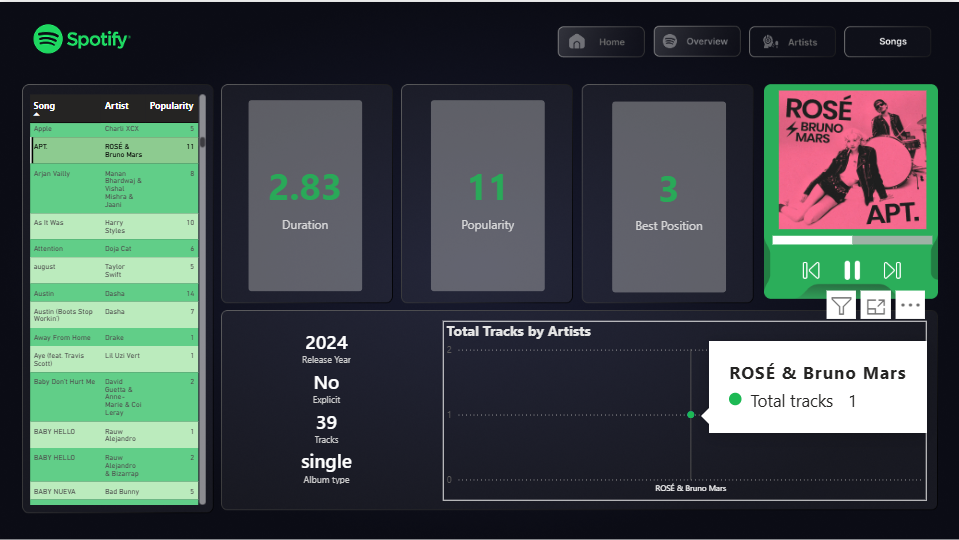

The page's visual inventory and layout, read from the dashboard file:
{"tool":"powerbi","page":{"name":"Songs","canvas":[1280,720],"ordinal":3},"visuals":[{"type":"actionButton","box":[741.2,30,116.7,43.3],"z":0},{"type":"actionButton","box":[871.2,30,116.7,43.3],"z":1000},{"type":"actionButton","box":[999.6,30,116.7,43.3],"z":2000},{"type":"actionButton","box":[1127.9,30,116.7,43.3],"z":3000},{"type":"tableEx","fields":{"Values":["Top-50-World.song","Top-50-World.artist","Count(Top-50-World.popularity)"]},"box":[35.7,118.6,245.7,557.1],"z":4000},{"type":"cardVisual","fields":{"Data":["Top-50-World.Song Duration"]},"box":[294,112,230,293],"z":5000},{"type":"cardVisual","fields":{"Data":["Count(Top-50-World.popularity)"]},"box":[537,112,230,293],"z":6000},{"type":"cardVisual","fields":{"Data":["Count(Top-50-World.position)"]},"box":[778,113,230,293],"z":7000},{"type":"advancedSlicerVisual","title":"Song and Artist","fields":{"Values":["Top-50-World.song"]},"box":[1013,112,249,197],"z":8000},{"type":"image","box":[1070.5,345.6,25.7,25.7],"z":9000},{"type":"image","box":[1178.9,345.7,25.7,25.7],"z":10000},{"type":"image","box":[1124.6,345.7,25.7,25.7],"z":11000},{"type":"cardVisual","fields":{"Data":["Top-50-World.Release Year Selected","Top-50-World.Explicit Label","_Measures.Total Songs","Min(Top-50-World.album_type)"]},"box":[281.4,417.1,310,248],"z":12000},{"type":"hundredPercentStackedBarChart","fields":{"Y":["_Measures.Avg Popularity","Avg(Top-50-World.popularity)"]},"box":[1026.2,283.8,223.1,61.5],"z":13000},{"type":"stackedAreaChart","title":"Total Tracks by Artists","fields":{"Y":["Count(Top-50-World.total_tracks)"],"Category":["Top-50-World.artist"]},"box":[591.1,425.6,645.6,238.9],"z":13001}]}

Visuals, with their boxes in screenshot pixels (x1, y1, x2, y2), scaled from the page's 1280x720 canvas onto the 959x540 screenshot:
actionButton: rect(555, 22, 643, 55)
actionButton: rect(653, 22, 740, 55)
actionButton: rect(749, 22, 836, 55)
actionButton: rect(845, 22, 932, 55)
tableEx - Top-50-World.song x Top-50-World.artist: rect(27, 89, 211, 507)
cardVisual - Top-50-World.Song Duration: rect(220, 84, 393, 304)
cardVisual - Count(Top-50-World.popularity): rect(402, 84, 575, 304)
cardVisual - Count(Top-50-World.position): rect(583, 85, 755, 304)
"Song and Artist" advancedSlicerVisual: rect(759, 84, 946, 232)
image: rect(802, 259, 821, 278)
image: rect(883, 259, 903, 279)
image: rect(843, 259, 862, 279)
cardVisual - Top-50-World.Release Year Selected x Top-50-World.Explicit Label: rect(211, 313, 443, 499)
hundredPercentStackedBarChart - _Measures.Avg Popularity x Avg(Top-50-World.popularity): rect(769, 213, 936, 259)
"Total Tracks by Artists" stackedAreaChart: rect(443, 319, 927, 498)
